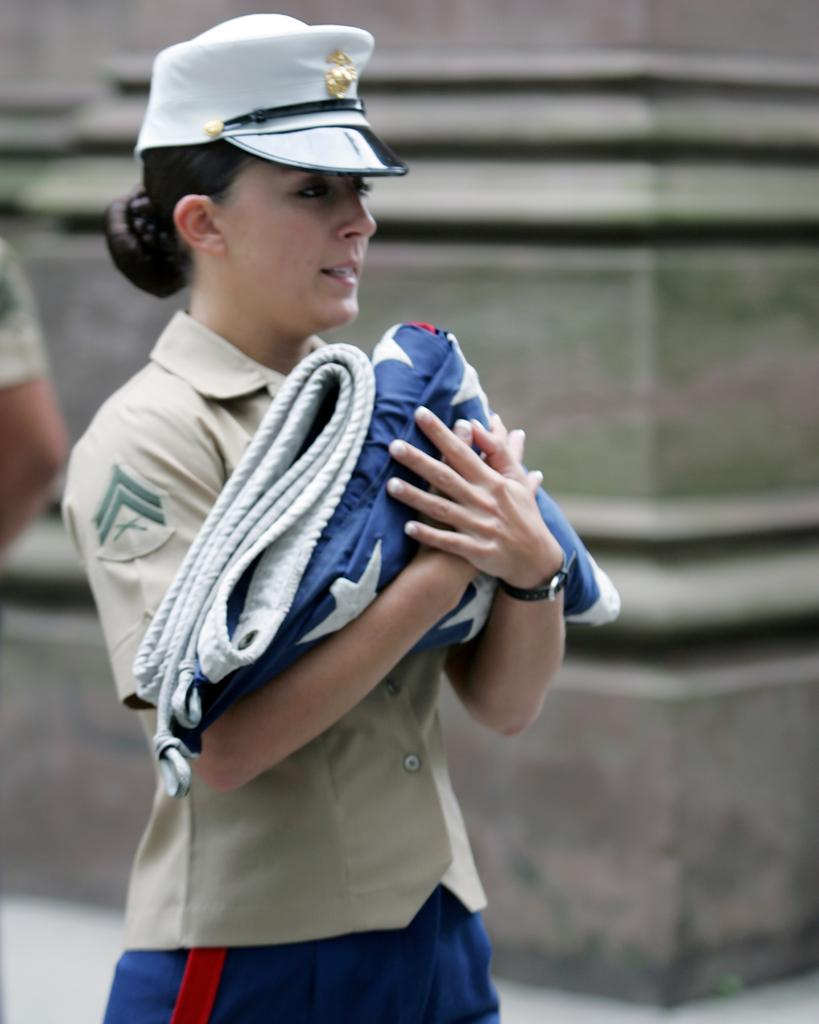Hat: (130, 9, 412, 175)
